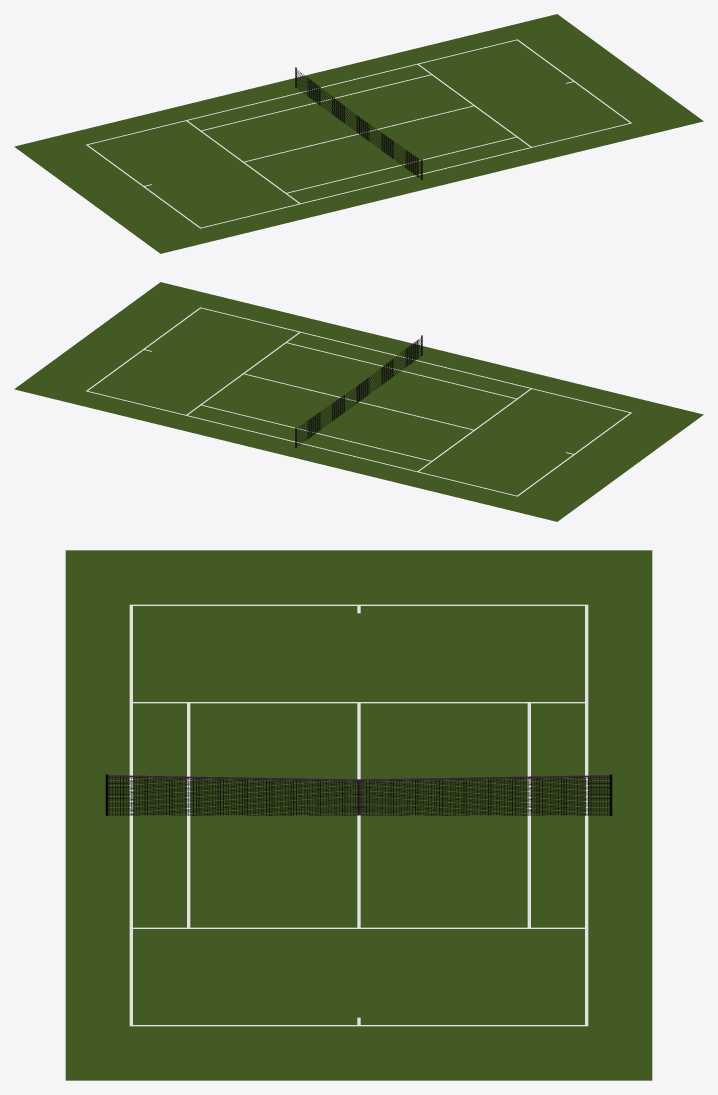
Rendered from JoinsizSaha.fbx.
3 views of the same model, one above another, from view 1: azimuth 30°, elevation 25°; view 2: azimuth 150°, elevation 25°; view 3: azimuth 270°, elevation 25° (orthographic). The views are drawn at different scales.
Parts seen in each view (by area): view 1: Plane, Plane.002; view 2: Plane, Plane.002; view 3: Plane, Plane.002.
Part boxes in pixels (bbox=[...]): Plane: bbox=[14, 14, 703, 253]; Plane.002: bbox=[296, 69, 421, 178]; Plane: bbox=[14, 282, 703, 521]; Plane.002: bbox=[296, 337, 421, 446]; Plane: bbox=[65, 550, 652, 1080]; Plane.002: bbox=[108, 775, 609, 815].
Size of the model in its own units: 2995 by 114 by 1400.
